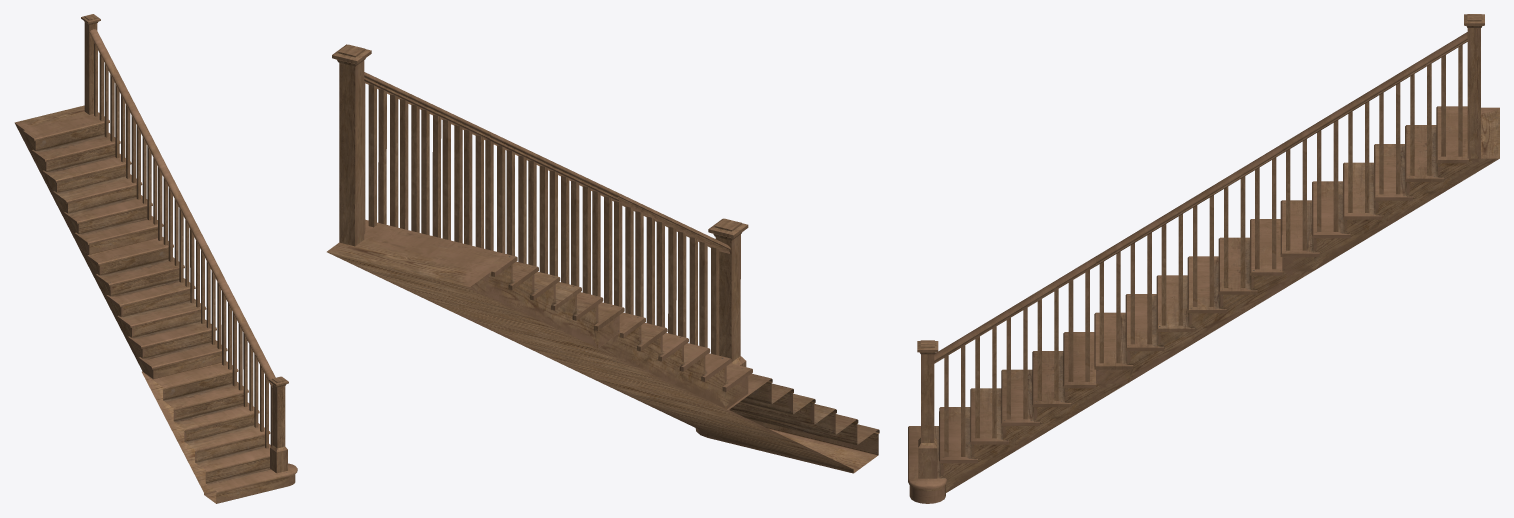
Rendered from modular_wooden_stairs_-_game_ready_asset.glb.
3 views of the same model, side by side, from view 1: azimuth 30°, elevation 25°; view 2: azimuth 150°, elevation 25°; view 3: azimuth 270°, elevation 25° (orthographic). The views are drawn at different scales.
Visible parts, largest first — view 1: SM_Stairs_11.002, SM_Stairs_02.002, SM_Stairs_08.008; view 2: SM_Stairs_11.002, SM_Stairs_02.002, SM_Stairs_08.008; view 3: SM_Stairs_11.002, SM_Stairs_02.002, SM_Stairs_08.008.
Part boxes in pixels (<box>): SM_Stairs_11.002: <box>14,14,163,254</box>; SM_Stairs_02.002: <box>142,277,297,503</box>; SM_Stairs_08.008: <box>79,153,227,379</box>; SM_Stairs_11.002: <box>327,44,624,347</box>; SM_Stairs_02.002: <box>584,192,879,473</box>; SM_Stairs_08.008: <box>455,131,752,409</box>; SM_Stairs_11.002: <box>1280,14,1499,271</box>; SM_Stairs_02.002: <box>908,256,1126,503</box>; SM_Stairs_08.008: <box>1094,143,1312,383</box>.
Size of the model in its own units: 1.17 by 4.23 by 4.76.
Materials: 1 (1 with a texture image).
